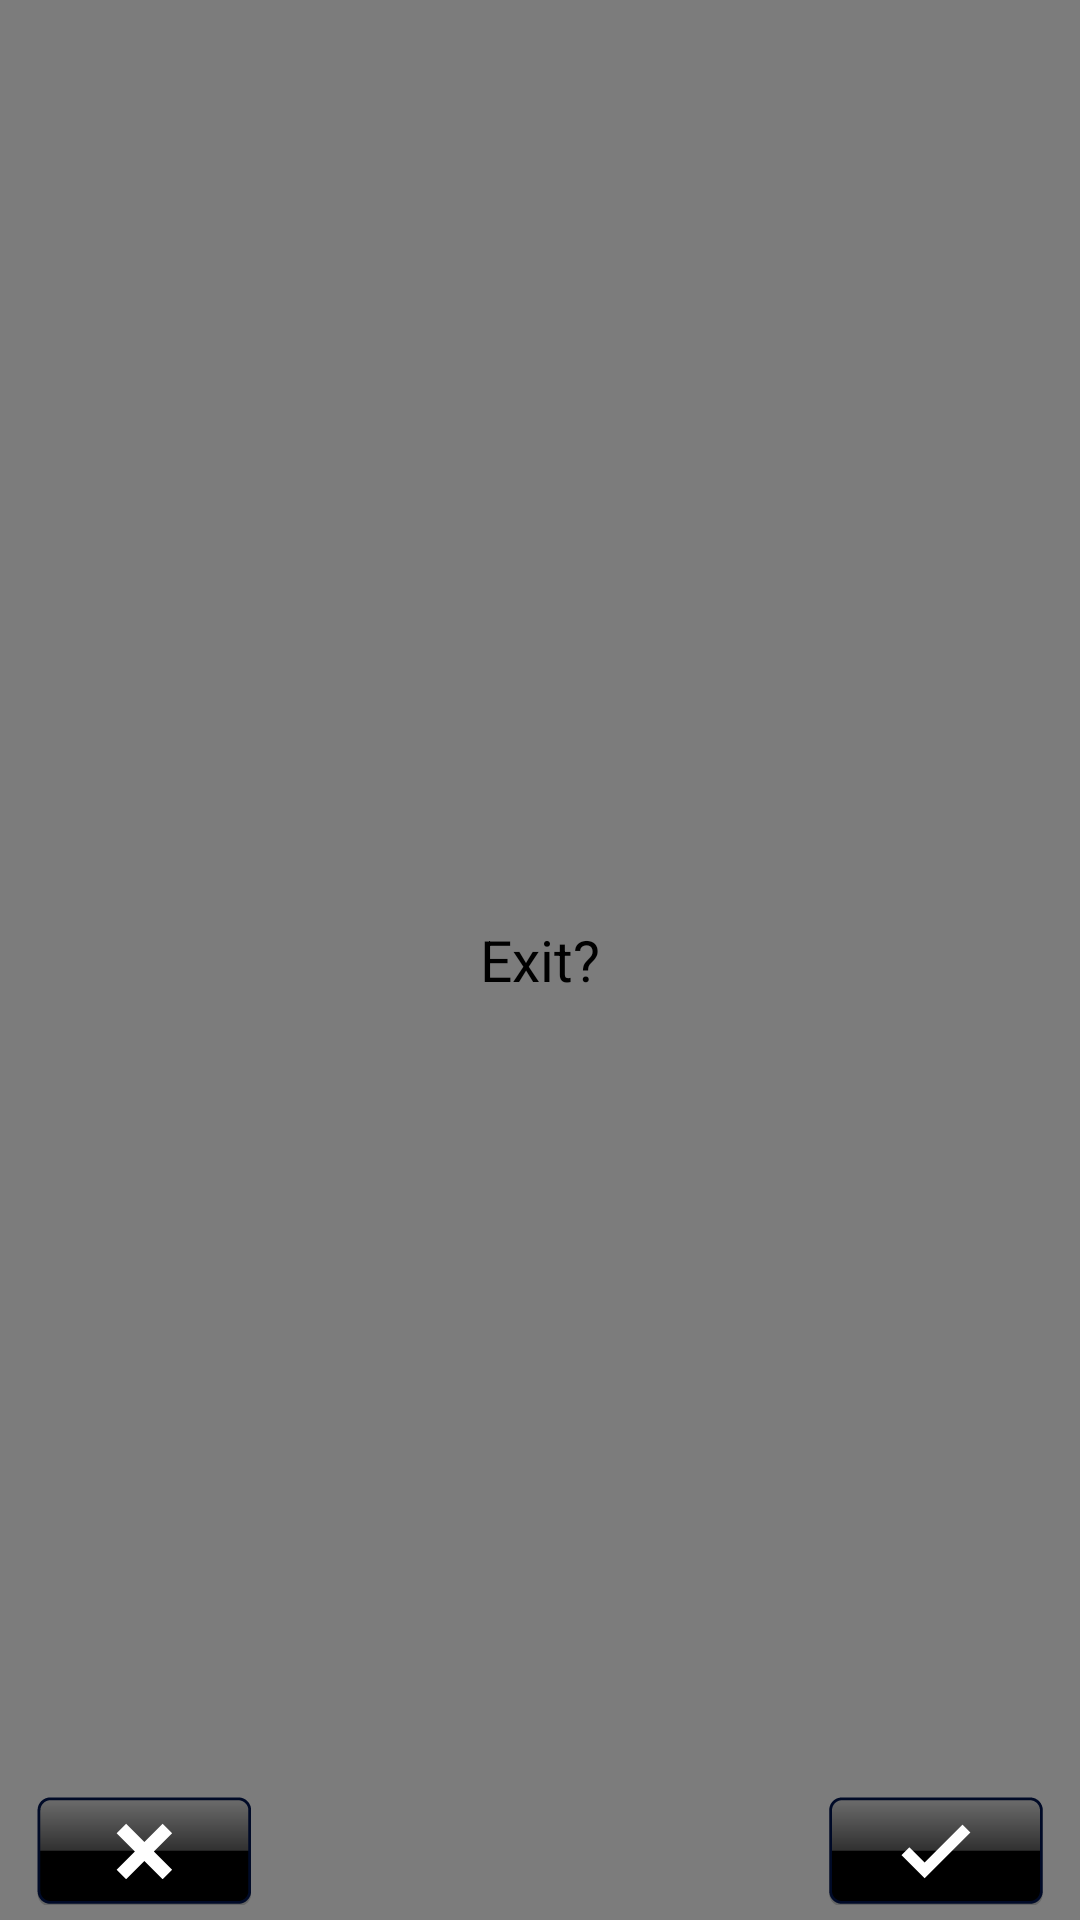

Icons on this 1080*1920 Android screen, each with its box as (x1, y1, x2, y2):
exit device cancel: (37, 1797, 251, 1904)
exit device ok: (829, 1797, 1043, 1904)
